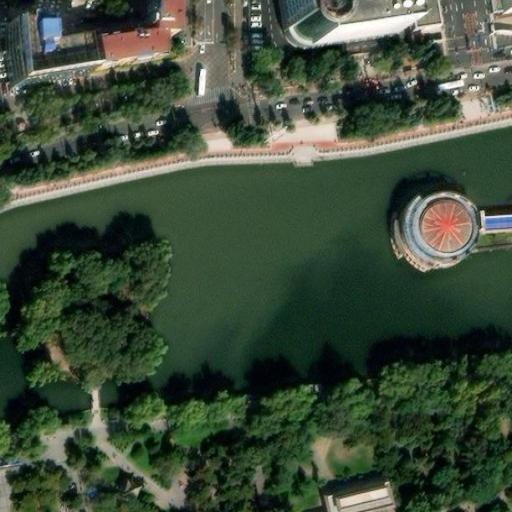building: (395, 194, 512, 272), (275, 0, 398, 63), (6, 18, 86, 97), (85, 35, 163, 77), (319, 484, 388, 512), (146, 0, 179, 47), (409, 0, 442, 28), (288, 505, 322, 512)
